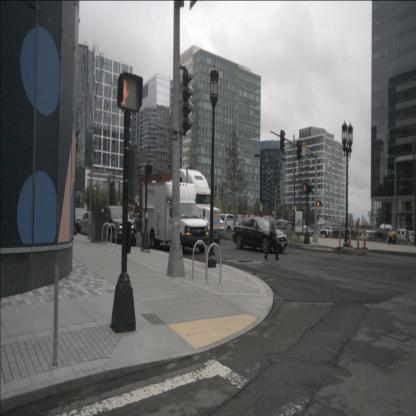cone: (361, 220, 368, 250), (355, 218, 361, 250), (347, 220, 353, 248), (337, 221, 343, 249)
